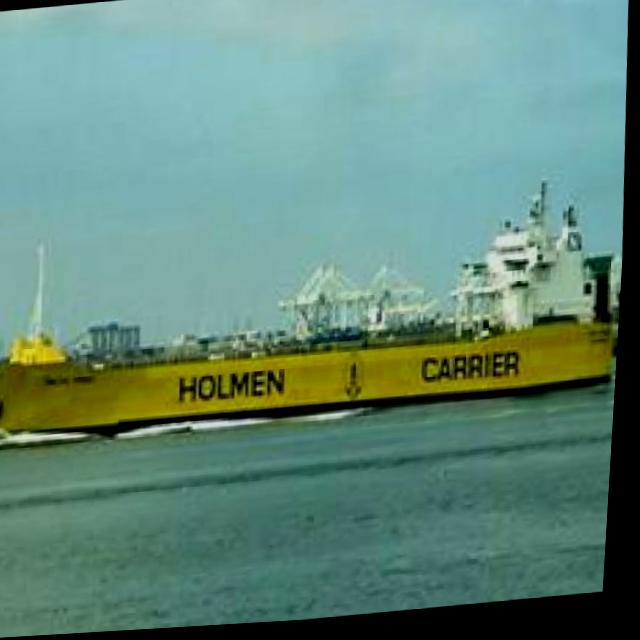ship2: (0, 183, 624, 448)
